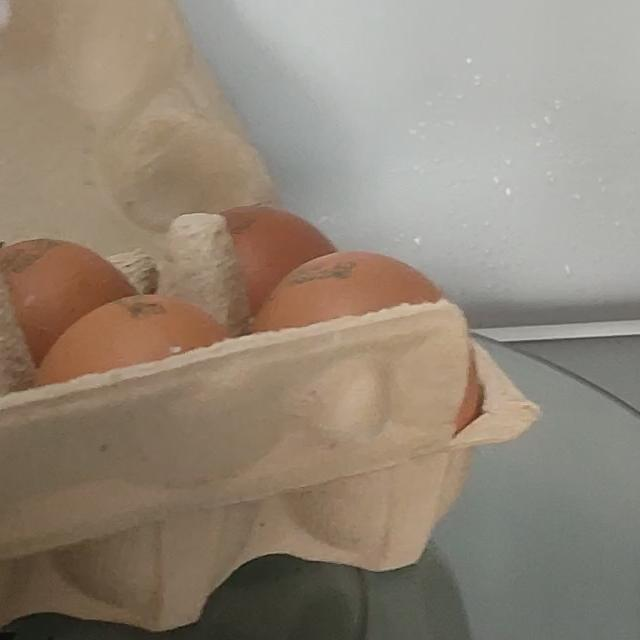egg: (0, 0, 490, 640)
